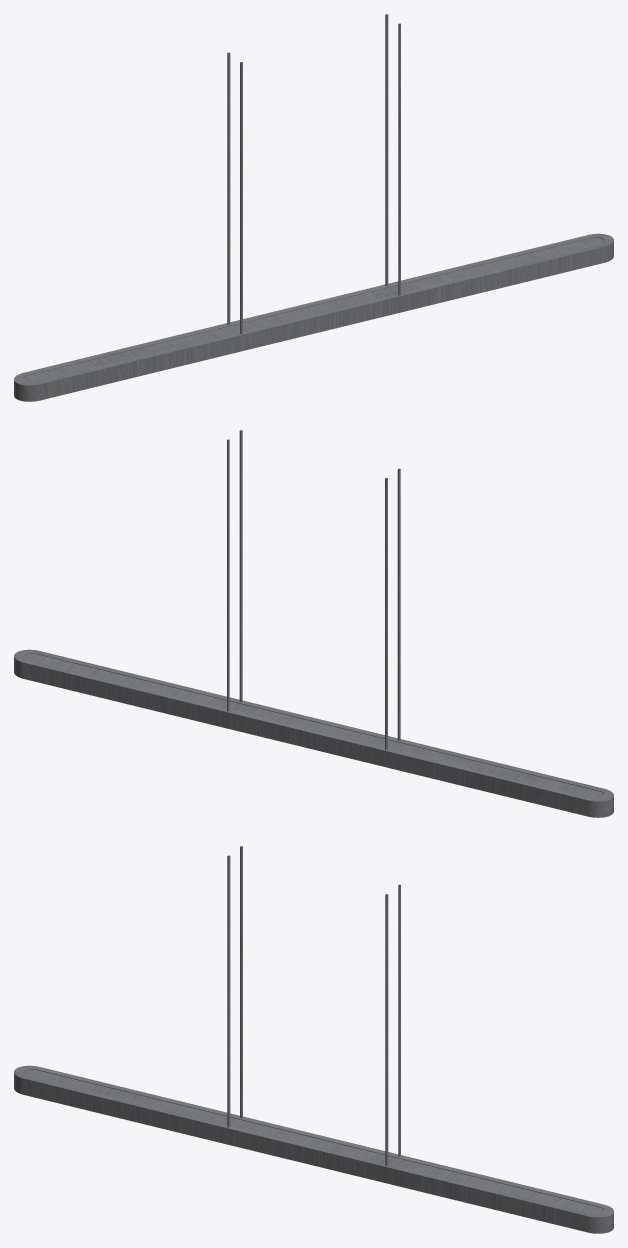
The model's file is Deckenlampe.glb.
3 views of the same model, one above another, from view 1: azimuth 30°, elevation 25°; view 2: azimuth 150°, elevation 25°; view 3: azimuth 330°, elevation 25° (orthographic).
Parts seen in each view (by area): view 1: ArtemidDeckenleuchte.002_0; view 2: ArtemidDeckenleuchte.002_0; view 3: ArtemidDeckenleuchte.002_0.
Part boxes in pixels (box(x1,y1,x2,y2)): ArtemidDeckenleuchte.002_0: box(14, 14, 613, 401); ArtemidDeckenleuchte.002_0: box(14, 430, 613, 817); ArtemidDeckenleuchte.002_0: box(14, 846, 613, 1233).
Bounding box in the file's own units: 1.63 × 0.7512 × 0.0757.
Materials: 2 (1 with a texture image).
